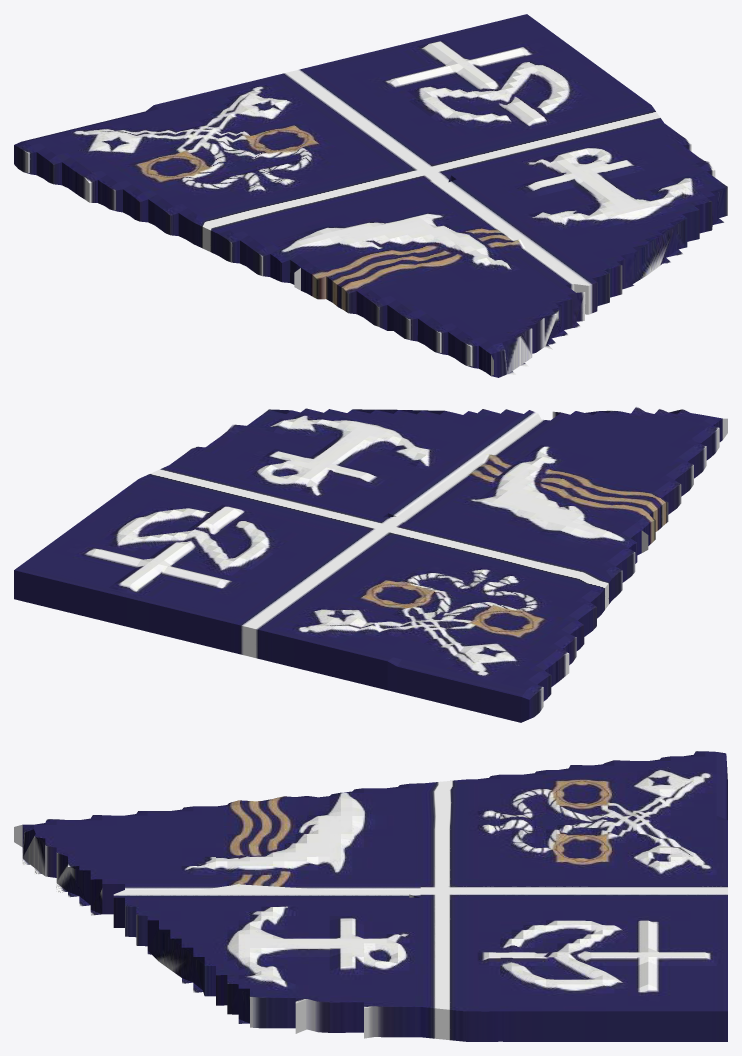
Rendered from john.gltf.
3 renders of one model, top to bottom at view 1: azimuth 30°, elevation 25°; view 2: azimuth 150°, elevation 25°; view 3: azimuth 270°, elevation 25°, orthographic. The views are drawn at different scales.
Visible parts, largest first — view 1: Plane; view 2: Plane; view 3: Plane.
Part boxes in pixels (x1,y1,x2,y2): Plane: (14, 14, 727, 377); Plane: (14, 406, 727, 722); Plane: (14, 751, 727, 1041).
Bounding box in the file's own units: 1.71 × 0.1095 × 1.96.
Materials: 1 (1 with a texture image).
